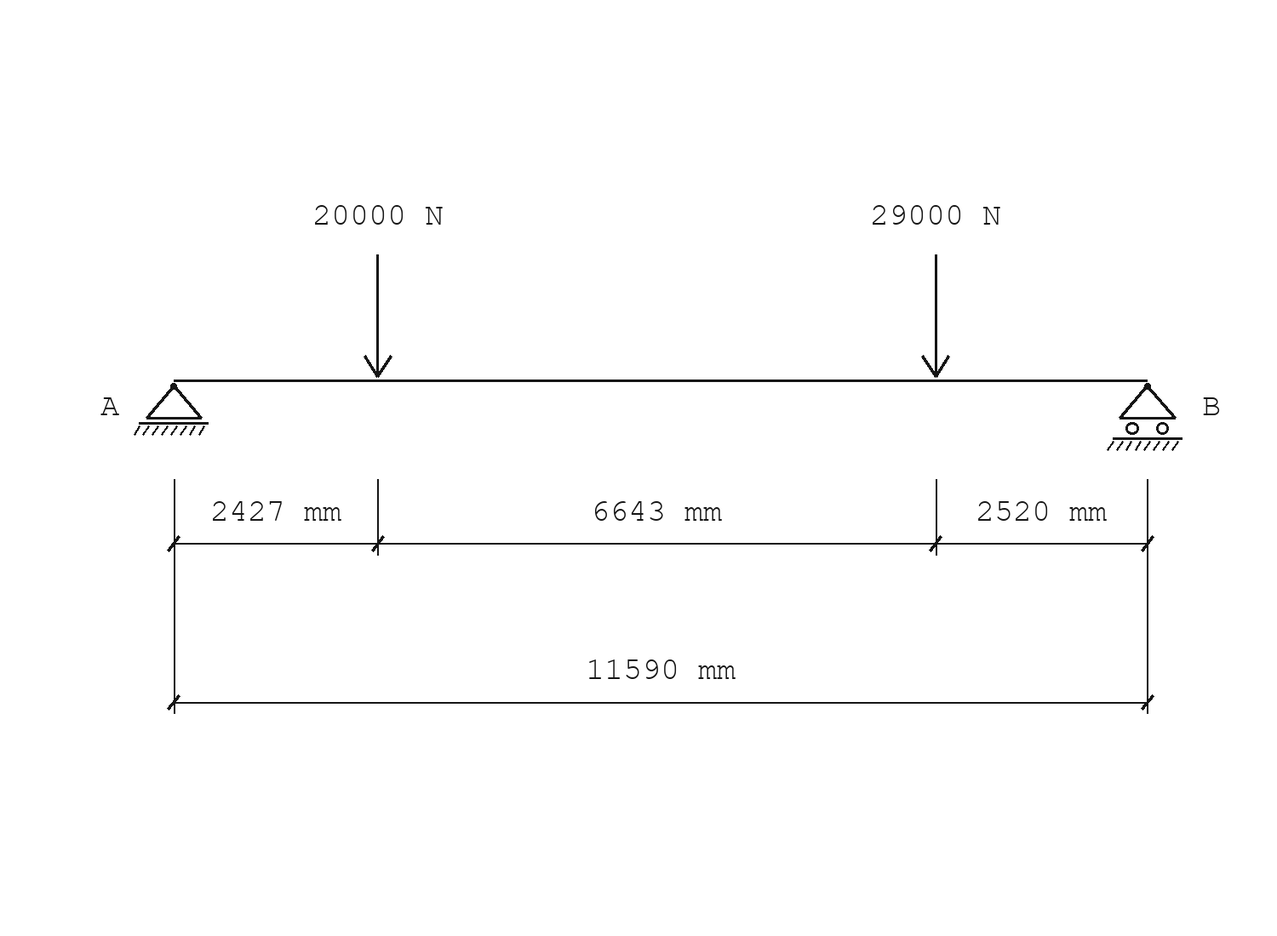pin_support: (134, 383, 209, 436)
point_load: (921, 254, 950, 378), (364, 254, 392, 378)
roller_support: (1107, 383, 1183, 451)
